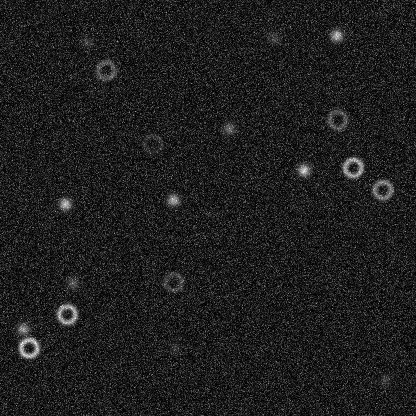Ring: (16, 335, 40, 359), (54, 302, 78, 326), (340, 155, 364, 179), (161, 269, 185, 293), (325, 107, 349, 131), (93, 58, 117, 82), (370, 177, 394, 201), (140, 131, 164, 155)
Spot: (79, 34, 95, 50), (328, 27, 344, 43), (220, 120, 236, 136), (265, 30, 281, 46), (166, 339, 182, 355), (64, 274, 80, 290), (295, 162, 311, 178), (14, 320, 30, 336), (377, 371, 393, 387), (165, 191, 181, 207), (57, 195, 73, 211)
